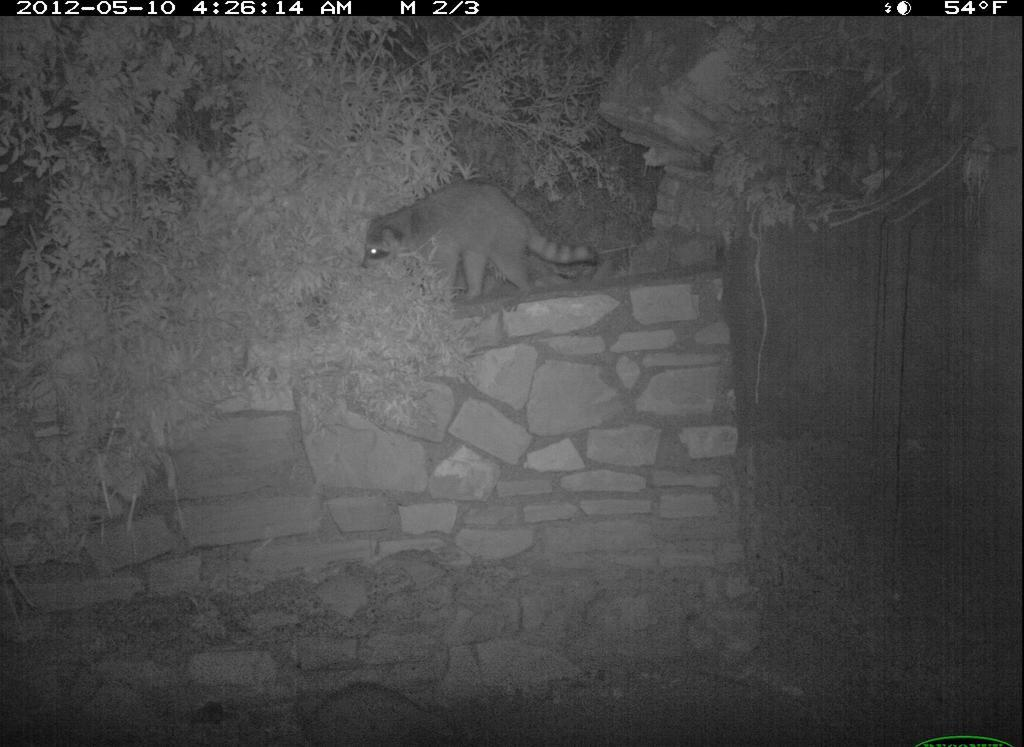raccoon: (359, 177, 610, 312)
